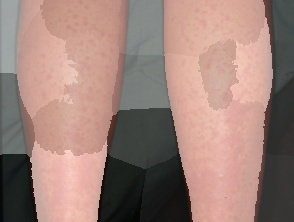SJS-TEN: (1, 0, 135, 222), (159, 0, 281, 222)
